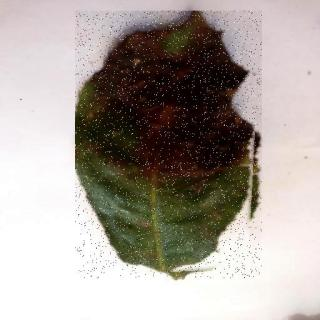Algal Leaf: (77, 12, 264, 279)
